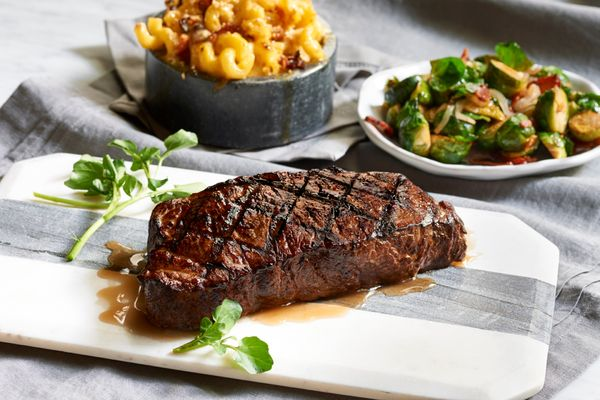curry: (394, 95, 431, 154)
soup: (132, 165, 467, 328)
sushi: (112, 0, 338, 151), (359, 47, 599, 184)
